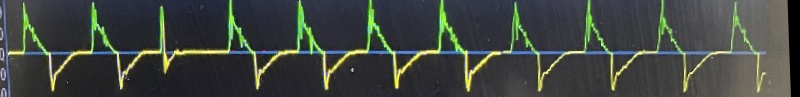hydrop_flow: (3, 0, 769, 97)
